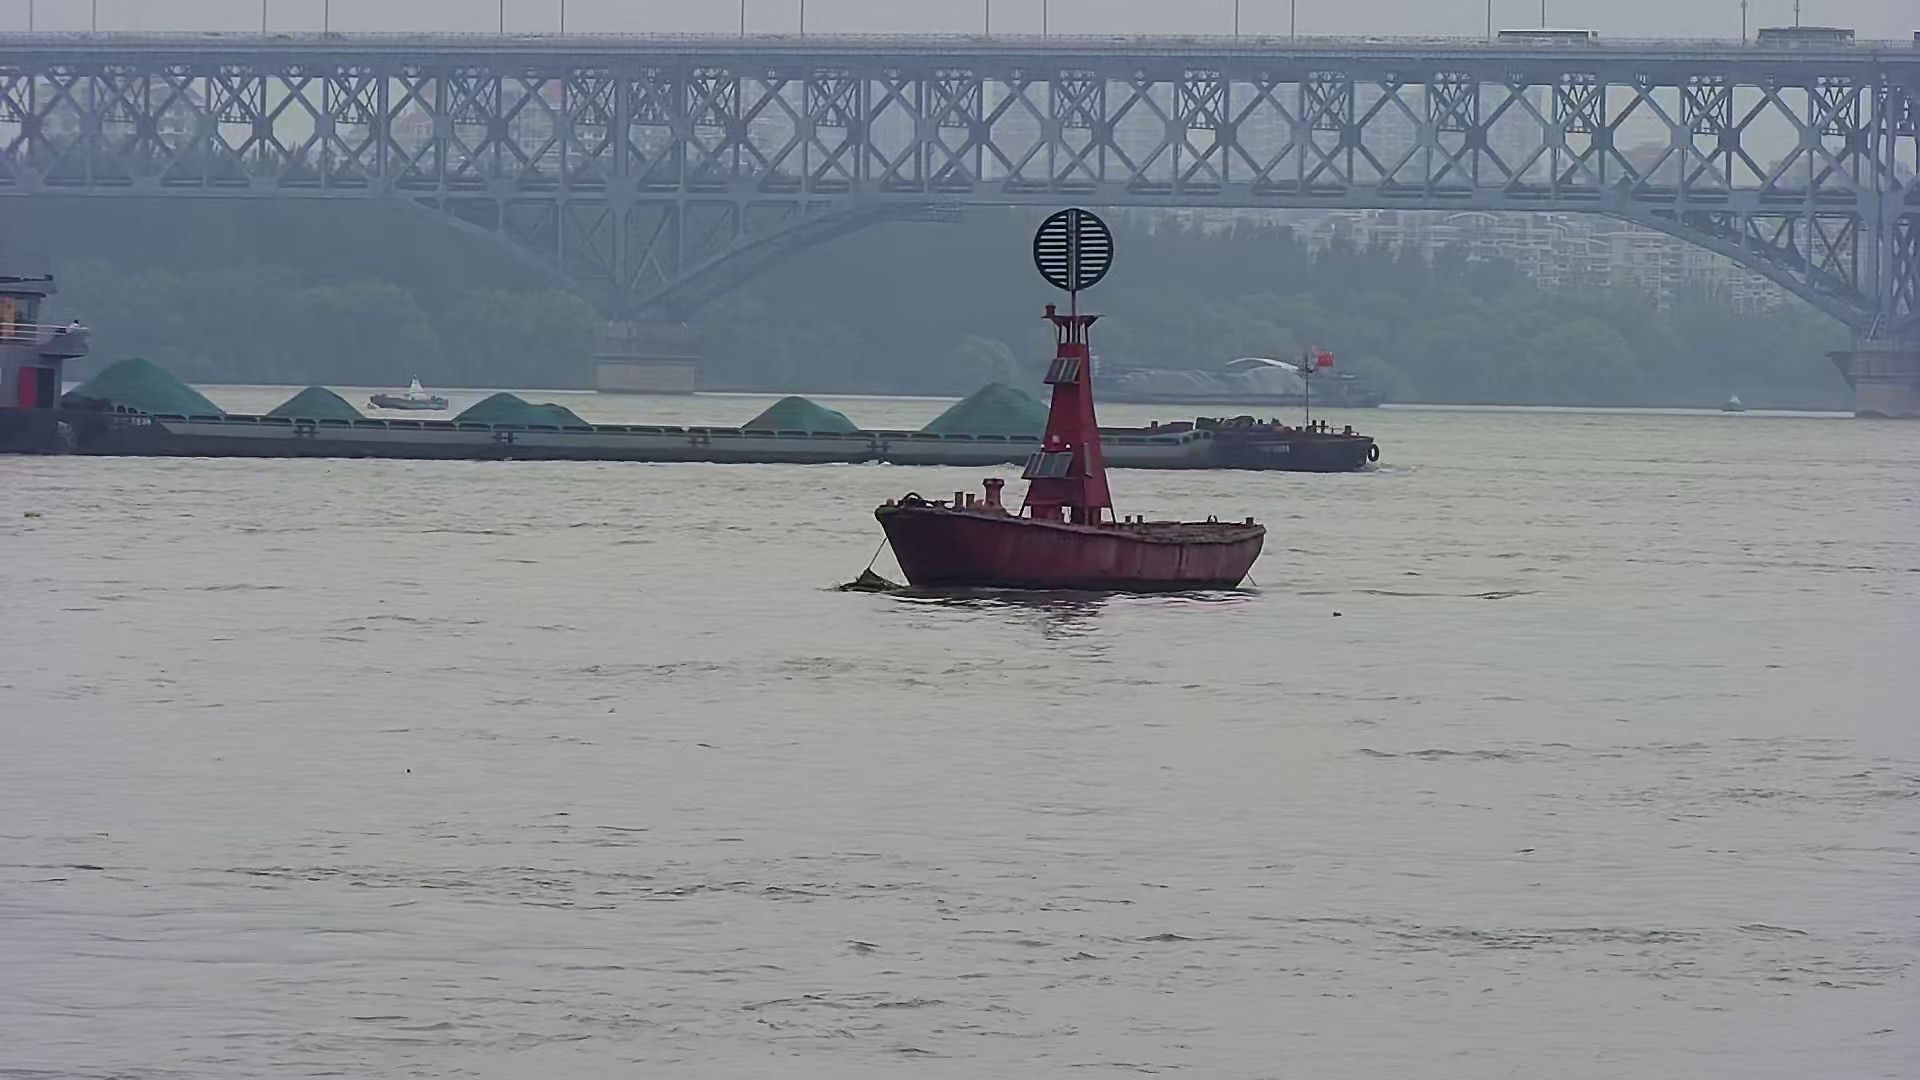boat: (829, 200, 1280, 603), (364, 369, 456, 415), (1708, 382, 1764, 421)
bridge: (1, 21, 1913, 419)
ship: (1, 270, 1399, 476), (1083, 342, 1404, 411)
